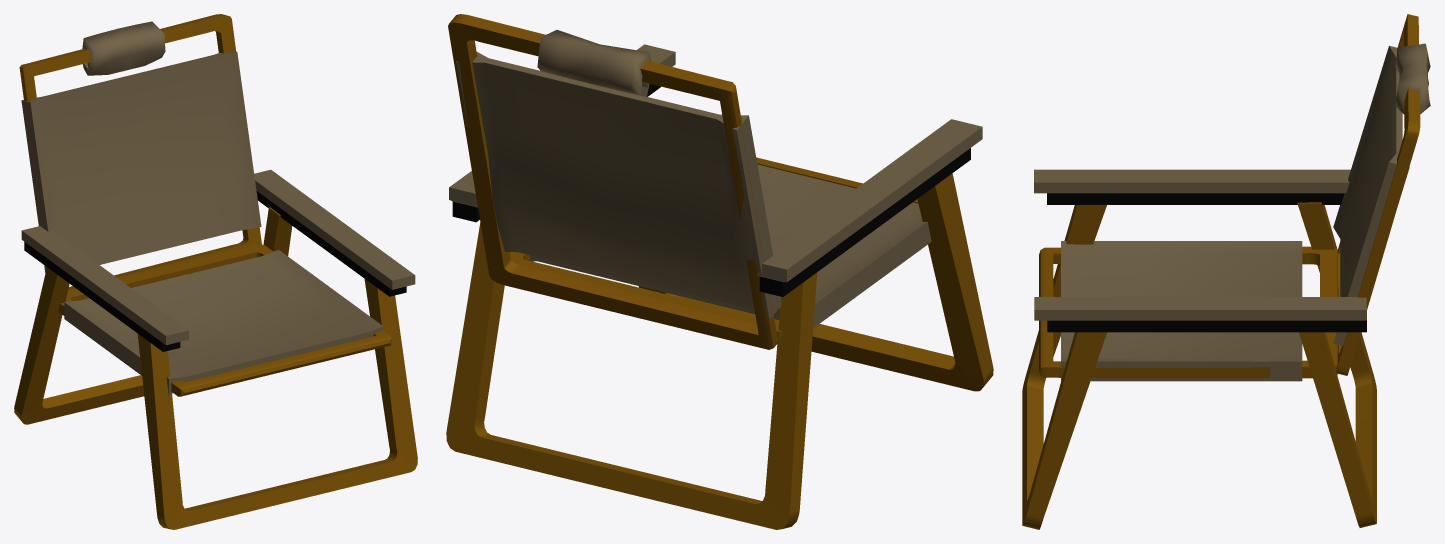
Rendered from chair3.fbx.
3 renders of one model, left to right at view 1: azimuth 30°, elevation 25°; view 2: azimuth 150°, elevation 25°; view 3: azimuth 270°, elevation 25°, orthographic. The views are drawn at different scales.
Visible parts, largest first — view 1: chair3; view 2: chair3; view 3: chair3.
Part boxes in pixels (x1,y1,x2,y2): chair3: (14, 14, 417, 529); chair3: (446, 14, 993, 529); chair3: (1022, 14, 1430, 529).
Bounding box in the file's own units: 0.00731 × 0.00958 × 0.00883.
Materials: 1 (1 with a texture image).
